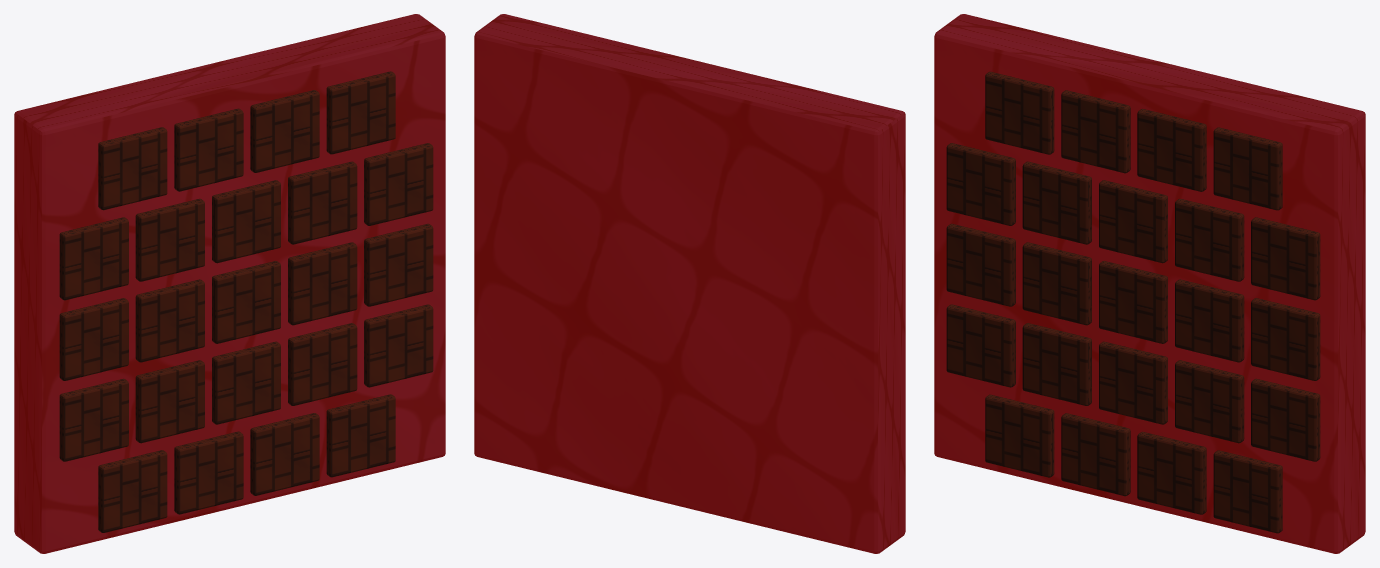
The model's file is SM_FC_Wall_400x400.glb.
The picture shows the model from 3 angles, left to right: view 1: azimuth 30°, elevation 25°; view 2: azimuth 150°, elevation 25°; view 3: azimuth 330°, elevation 25°; orthographic projection.
Parts seen in each view (by area): view 1: SM_FC_Wall_400x400; view 2: SM_FC_Wall_400x400; view 3: SM_FC_Wall_400x400.
Part boxes in pixels (bbox=[...]): SM_FC_Wall_400x400: bbox=[14, 14, 445, 553]; SM_FC_Wall_400x400: bbox=[474, 14, 905, 553]; SM_FC_Wall_400x400: bbox=[934, 14, 1365, 553].
Bounding box in the file's own units: 4 × 4 × 0.575.
2 materials, 2 textured.
